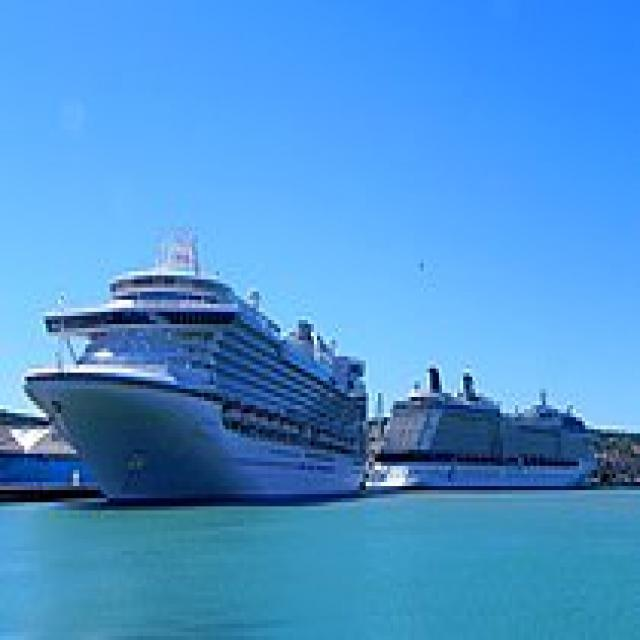Ship: (19, 216, 379, 508), (364, 366, 620, 499)
